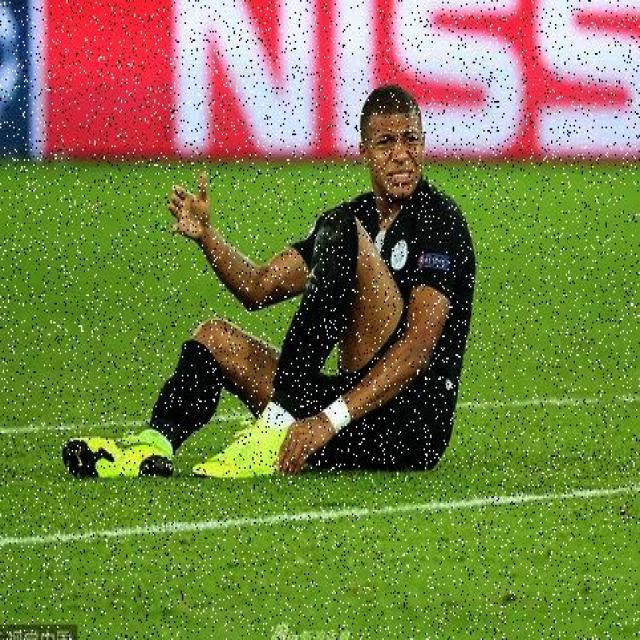fall: (136, 89, 464, 479)
